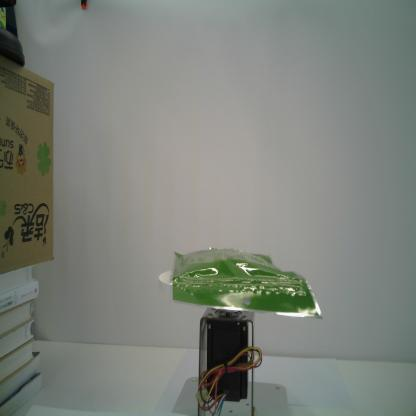Dried Fruit: (166, 247, 325, 320)
